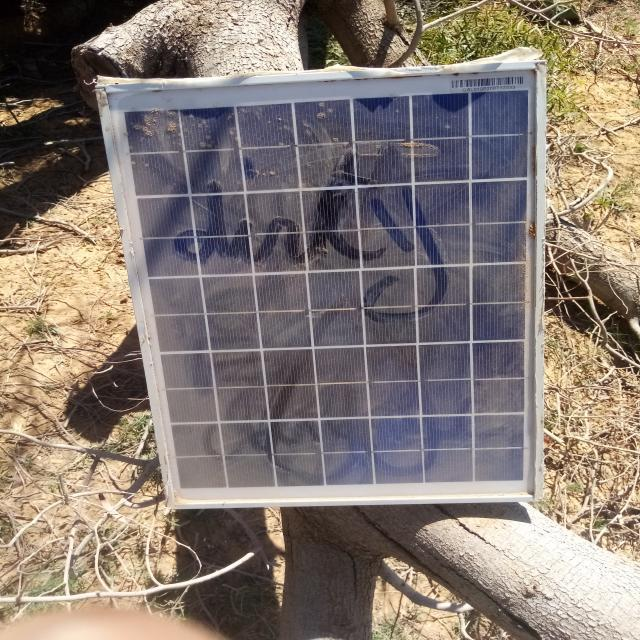faulty: (99, 65, 545, 506)
